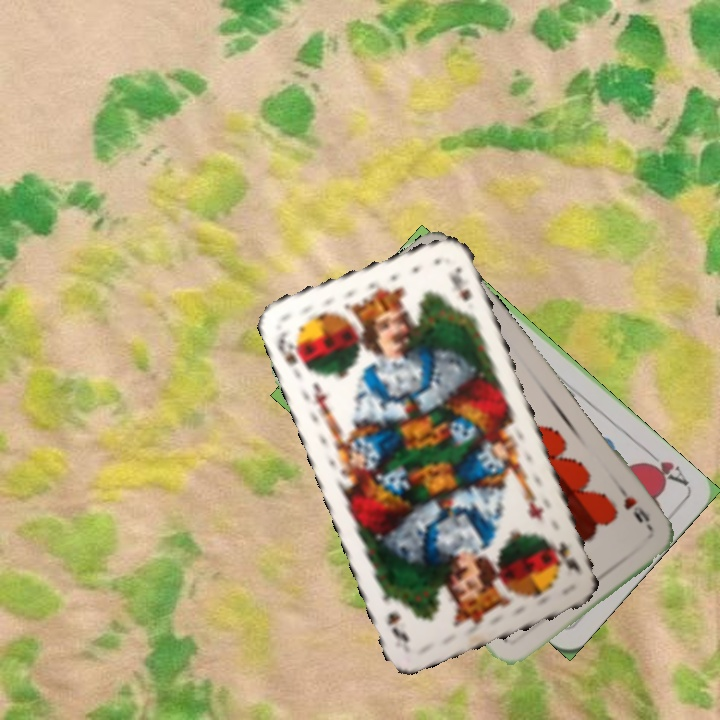H9: (613, 481, 655, 532)
HA: (638, 445, 692, 489)
SK: (273, 327, 311, 375), (548, 537, 584, 578)
